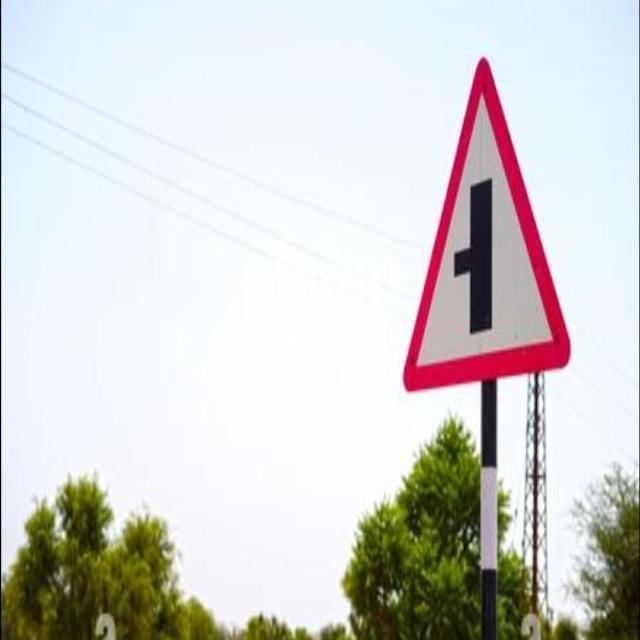side road left: (398, 52, 580, 404)
